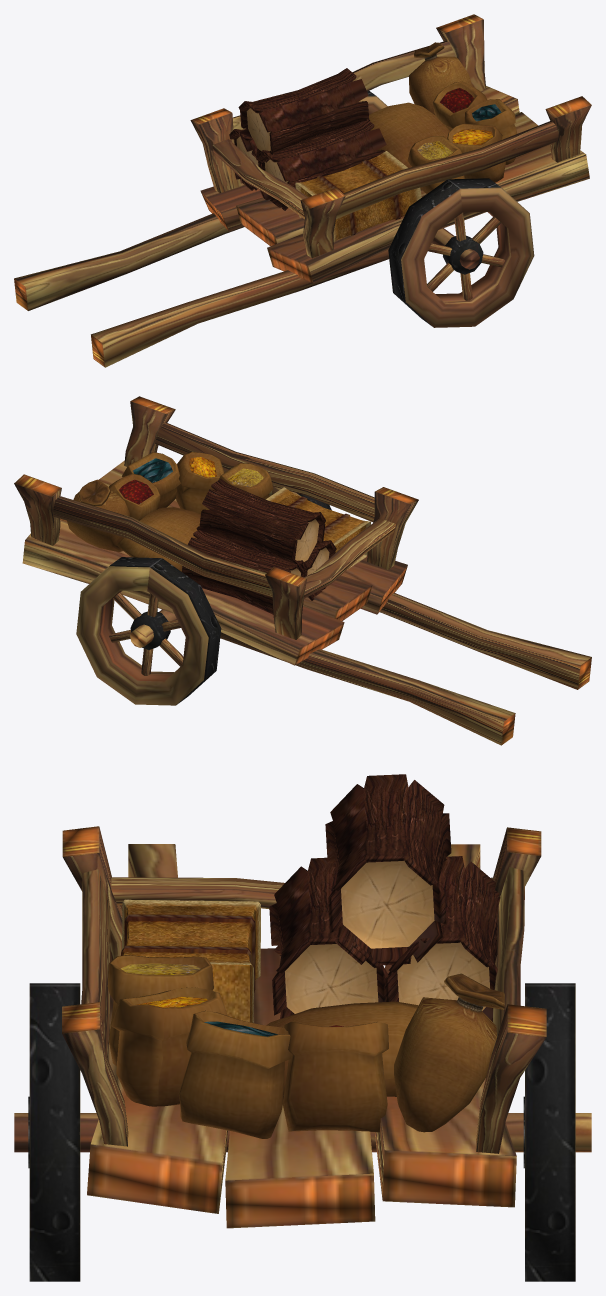
Rendered from modelNew 10.fbx.
3 views of the same model, one above another, from view 1: azimuth 30°, elevation 25°; view 2: azimuth 150°, elevation 25°; view 3: azimuth 270°, elevation 25° (orthographic). The views are drawn at different scales.
Visible parts, largest first — view 1: defaultMaterial; view 2: defaultMaterial; view 3: defaultMaterial.
Boxes of the visible parts, x1,y1,x2,y2 form: defaultMaterial: [14, 14, 591, 367]; defaultMaterial: [14, 396, 591, 745]; defaultMaterial: [14, 774, 591, 1281].
Size of the model in its own units: 200 by 78.32 by 104.
